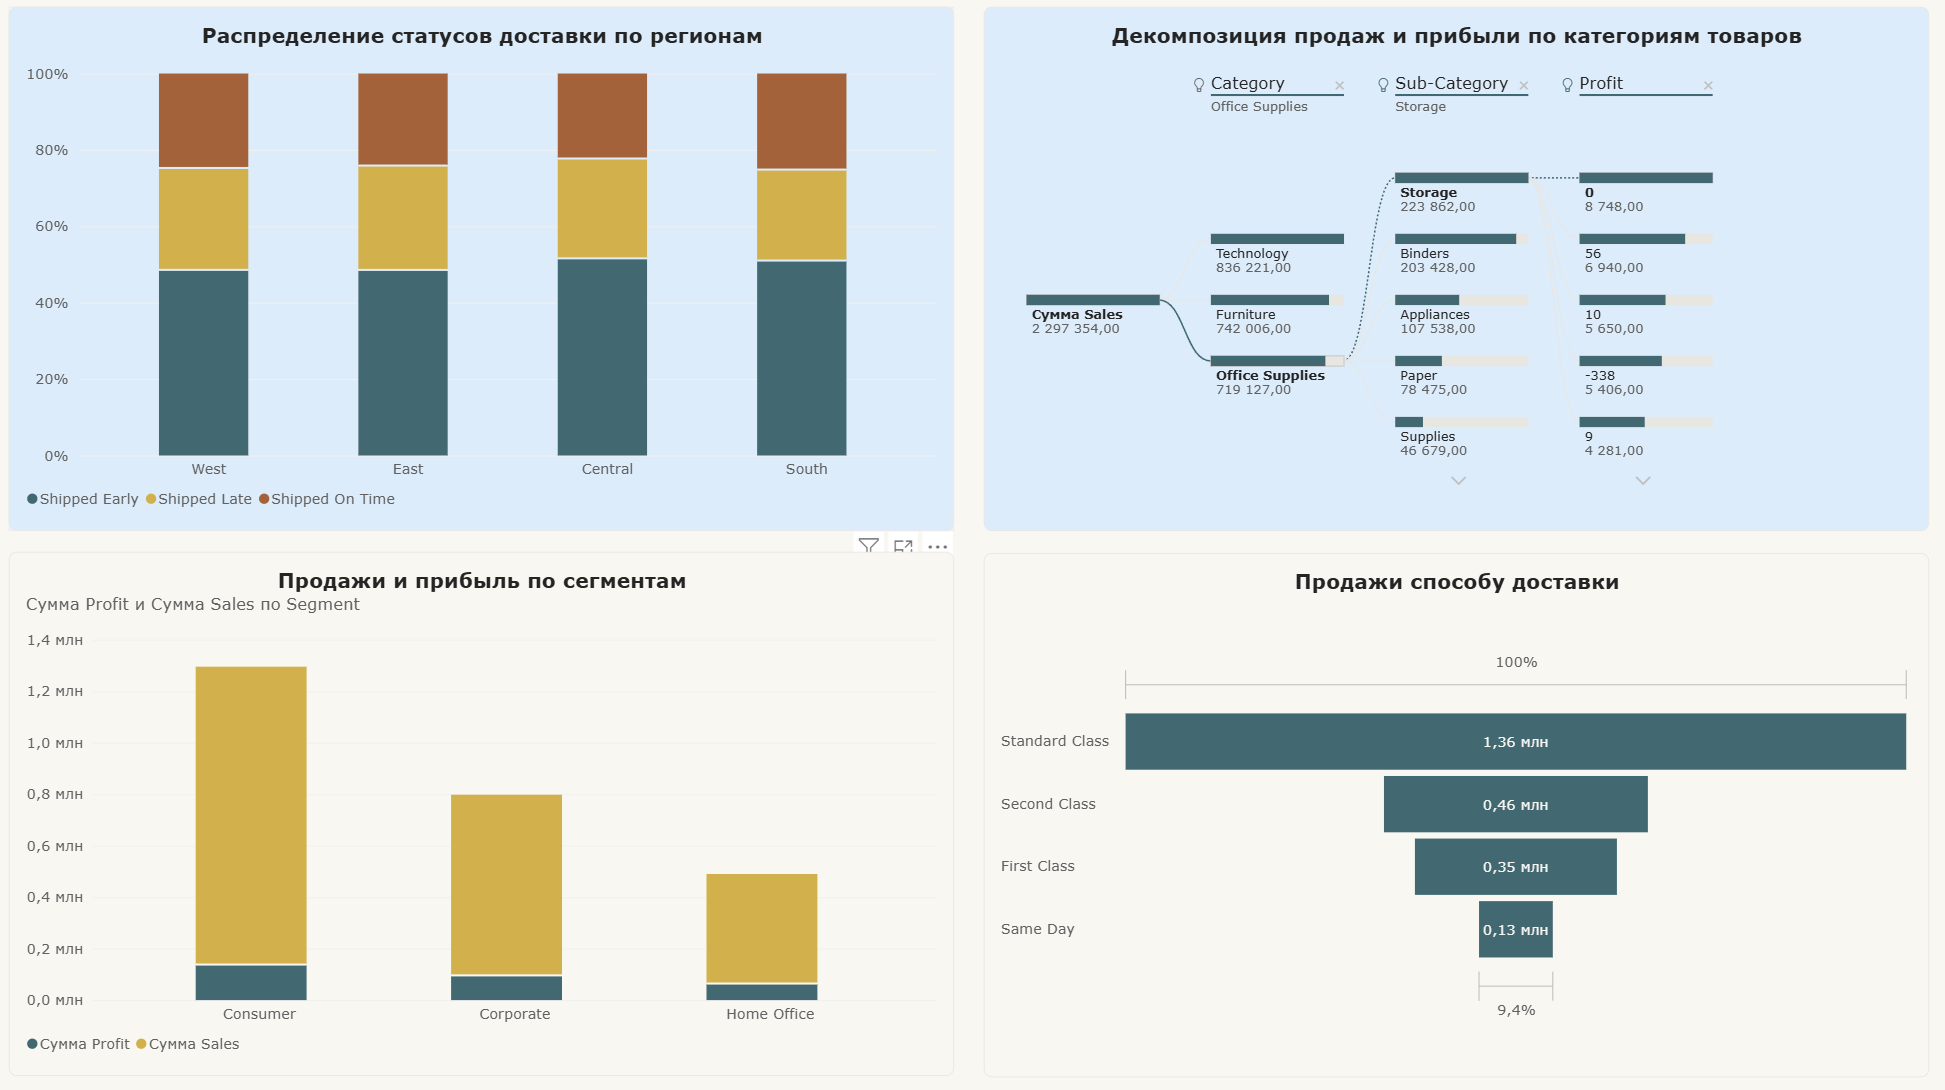

Layout of this report page (visuals, bound fields, positions):
{"tool":"powerbi","page":{"name":"Страница 4","canvas":[1920,1080],"ordinal":3},"visuals":[{"type":"hundredPercentStackedColumnChart","title":"Распределение статусов доставки по регионам","fields":{"Category":["Sample - Superstore_Orders.Region"],"Series":["Sample - Superstore_Orders.Ship Status"],"Y":["Sum(Sample - Superstore_Orders.Quantity)"]},"box":[17.7,17.7,923.2,512],"z":0},{"type":"decompositionTreeVisual","title":"Декомпозиция продаж и прибыли по категориям товаров","fields":{"Analyze":["Sum(Sample - Superstore_Orders.Sales)"],"ExplainBy":["Sample - Superstore_Orders.Category","Sample - Superstore_Orders.Sub-Category","Sample - Superstore_Orders.Profit"]},"box":[970.9,17.7,923,512],"z":1000},{"type":"funnel","title":"Продажи способу доставки","fields":{"Category":["Sample - Superstore_Orders.Ship Mode"],"Y":["Sum(Sample - Superstore_Orders.Sales)"]},"box":[970.9,551.5,923,512],"z":2000},{"type":"columnChart","title":"Продажи и прибыль по сегментам","fields":{"Category":["Sample - Superstore_Orders.Segment"],"Y":["Sum(Sample - Superstore_Orders.Profit)","Sum(Sample - Superstore_Orders.Sales)"]},"box":[18,551,923,512],"z":3000}]}

Visuals, with their boxes in screenshot pixels (x1, y1, x2, y2), scaled from the page's 1920x1080 canvas onto the 1945x1090 screenshot:
"Распределение статусов доставки по регионам" hundredPercentStackedColumnChart: {"left": 18, "top": 18, "right": 953, "bottom": 535}
"Декомпозиция продаж и прибыли по категориям товаров" decompositionTreeVisual: {"left": 984, "top": 18, "right": 1919, "bottom": 535}
"Продажи способу доставки" funnel: {"left": 984, "top": 557, "right": 1919, "bottom": 1073}
"Продажи и прибыль по сегментам" columnChart: {"left": 18, "top": 556, "right": 953, "bottom": 1073}
